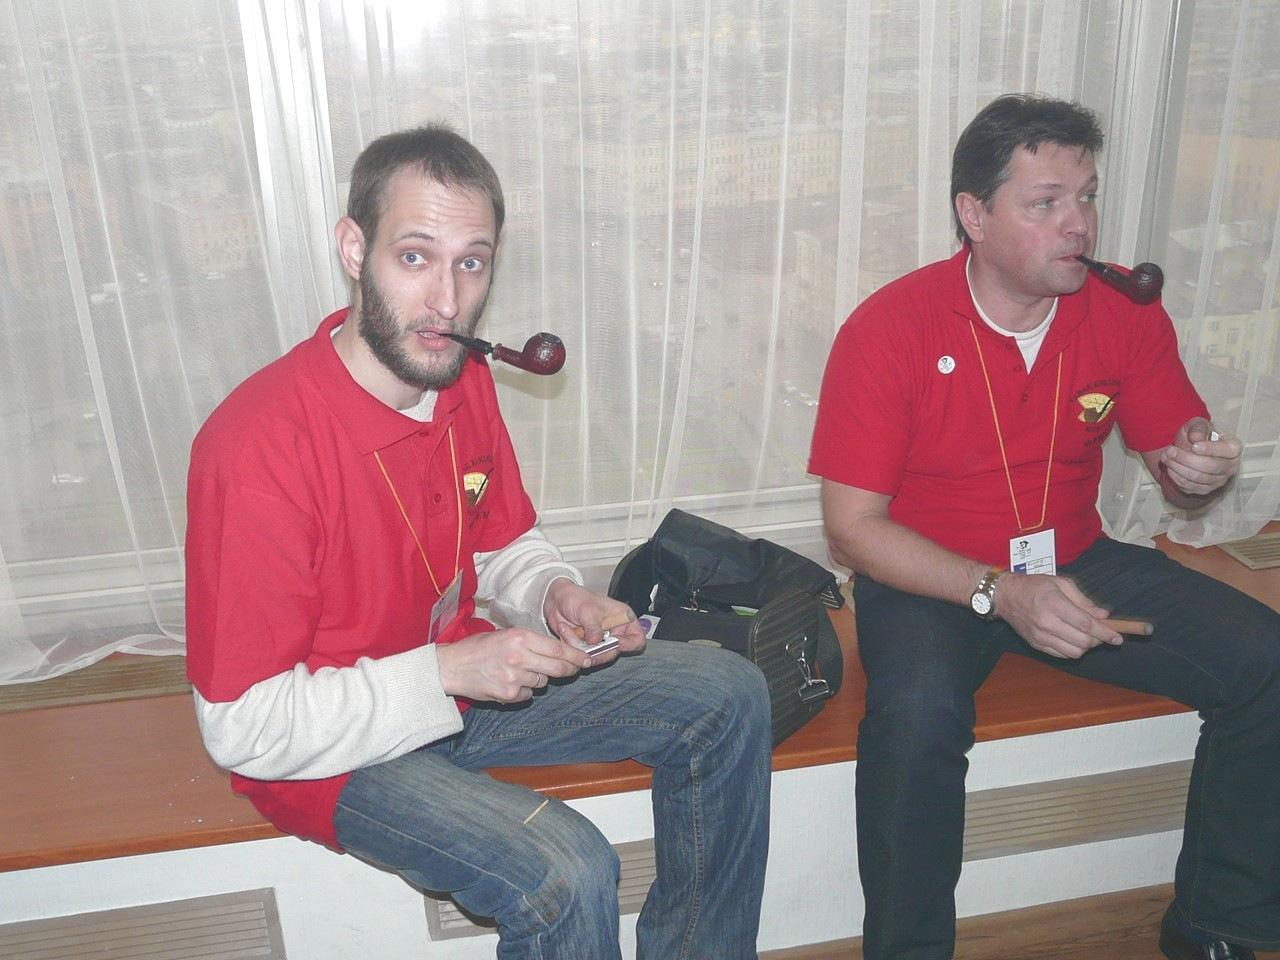trubka: (447, 333, 565, 376), (1074, 256, 1164, 304)
